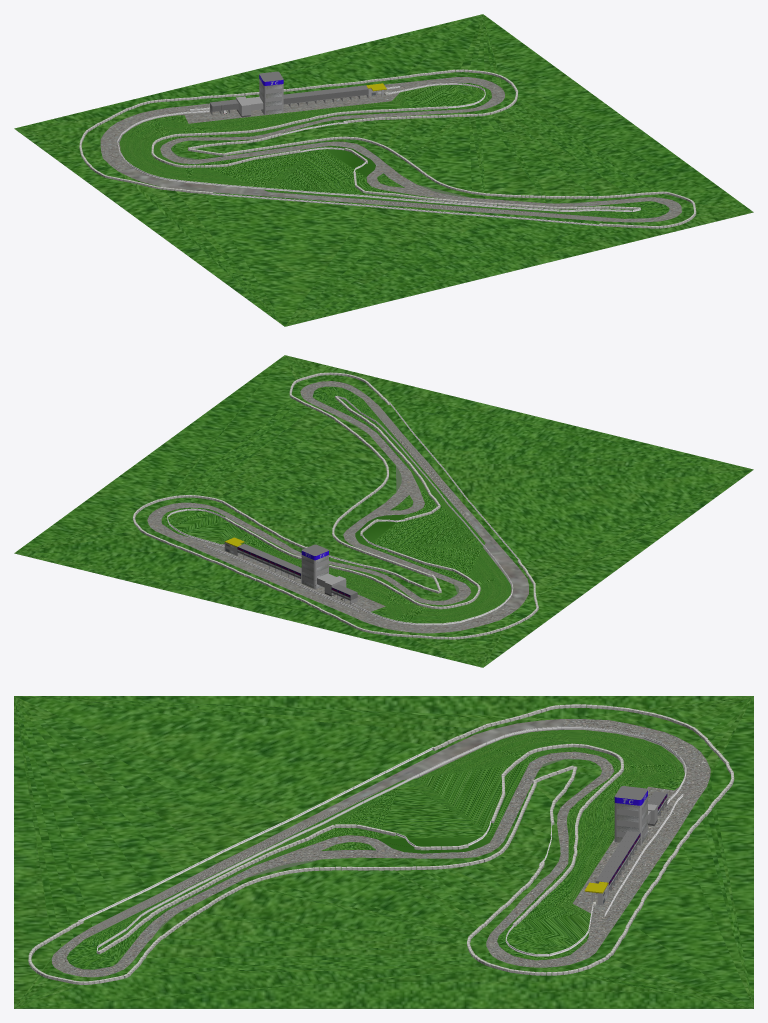
Rendered from tukuba.fbx.
The picture shows the model from 3 angles, top to bottom: view 1: azimuth 30°, elevation 25°; view 2: azimuth 150°, elevation 25°; view 3: azimuth 270°, elevation 25°; orthographic projection. The views are drawn at different scales.
Parts seen in each view (by area): view 1: 平面, Cube.713; view 2: 平面, Cube.713; view 3: 平面, Cube.713.
Part boxes in pixels (x1=…): 平面: x1=14, y1=14, x2=753, y2=326; Cube.713: x1=247, y1=71, x2=283, y2=114; 平面: x1=14, y1=355, x2=753, y2=667; Cube.713: x1=301, y1=544, x2=336, y2=588; 平面: x1=14, y1=696, x2=753, y2=1008; Cube.713: x1=614, y1=786, x2=650, y2=844.
Size of the model in its own units: 51765 by 3948 by 51765.
